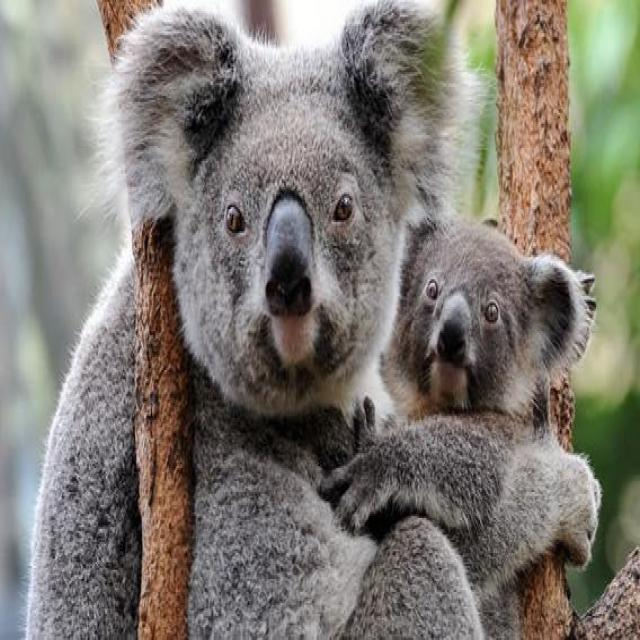Koala: (23, 4, 499, 639), (323, 195, 602, 568)
